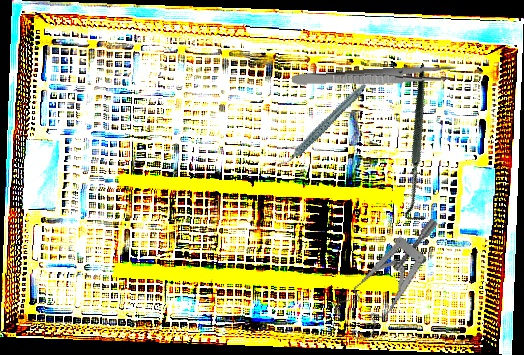Dressing Forceps: (291, 64, 457, 90)
Handpiece: (265, 82, 380, 168)
Hook Surgical: (347, 62, 495, 228)
Speculum: (316, 215, 471, 348)
